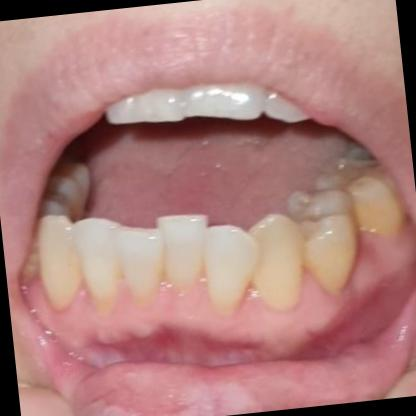Crowding: (295, 174, 398, 281), (160, 213, 249, 296)
